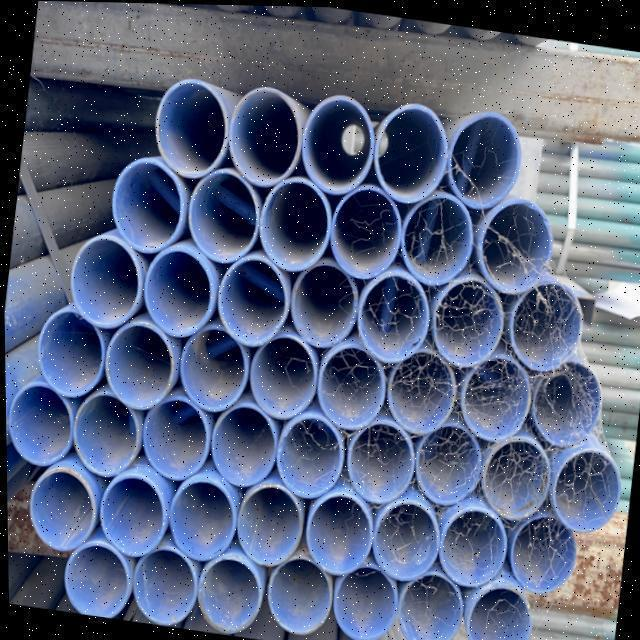pipe: (152, 75, 240, 185), (226, 77, 312, 188), (444, 104, 529, 205), (184, 163, 260, 268), (108, 154, 183, 260), (66, 229, 143, 331), (479, 193, 559, 291), (375, 95, 450, 199), (301, 89, 376, 193), (256, 173, 331, 276), (429, 269, 508, 366), (35, 298, 110, 398), (101, 312, 175, 413), (215, 248, 292, 345), (357, 263, 433, 361), (138, 242, 215, 338), (401, 188, 476, 284), (330, 176, 401, 277), (509, 274, 584, 369), (66, 386, 138, 481), (457, 348, 530, 441), (177, 319, 249, 412), (385, 341, 456, 432), (248, 327, 319, 418), (165, 474, 236, 565), (531, 354, 603, 443), (287, 256, 358, 346), (268, 410, 341, 497), (551, 436, 620, 528), (137, 392, 209, 480), (315, 339, 386, 428), (302, 486, 373, 575), (476, 431, 550, 516), (206, 398, 277, 486), (232, 478, 303, 566), (344, 414, 413, 503), (412, 419, 484, 504), (368, 497, 439, 582), (97, 470, 167, 555), (507, 507, 577, 591), (436, 500, 507, 582), (5, 383, 72, 468), (194, 552, 264, 633), (27, 464, 95, 547), (128, 543, 195, 625), (390, 565, 463, 640), (264, 552, 332, 632), (330, 560, 397, 640), (61, 538, 129, 616), (464, 579, 532, 640)
